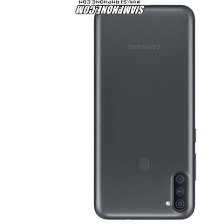phone: (89, 0, 201, 222)
